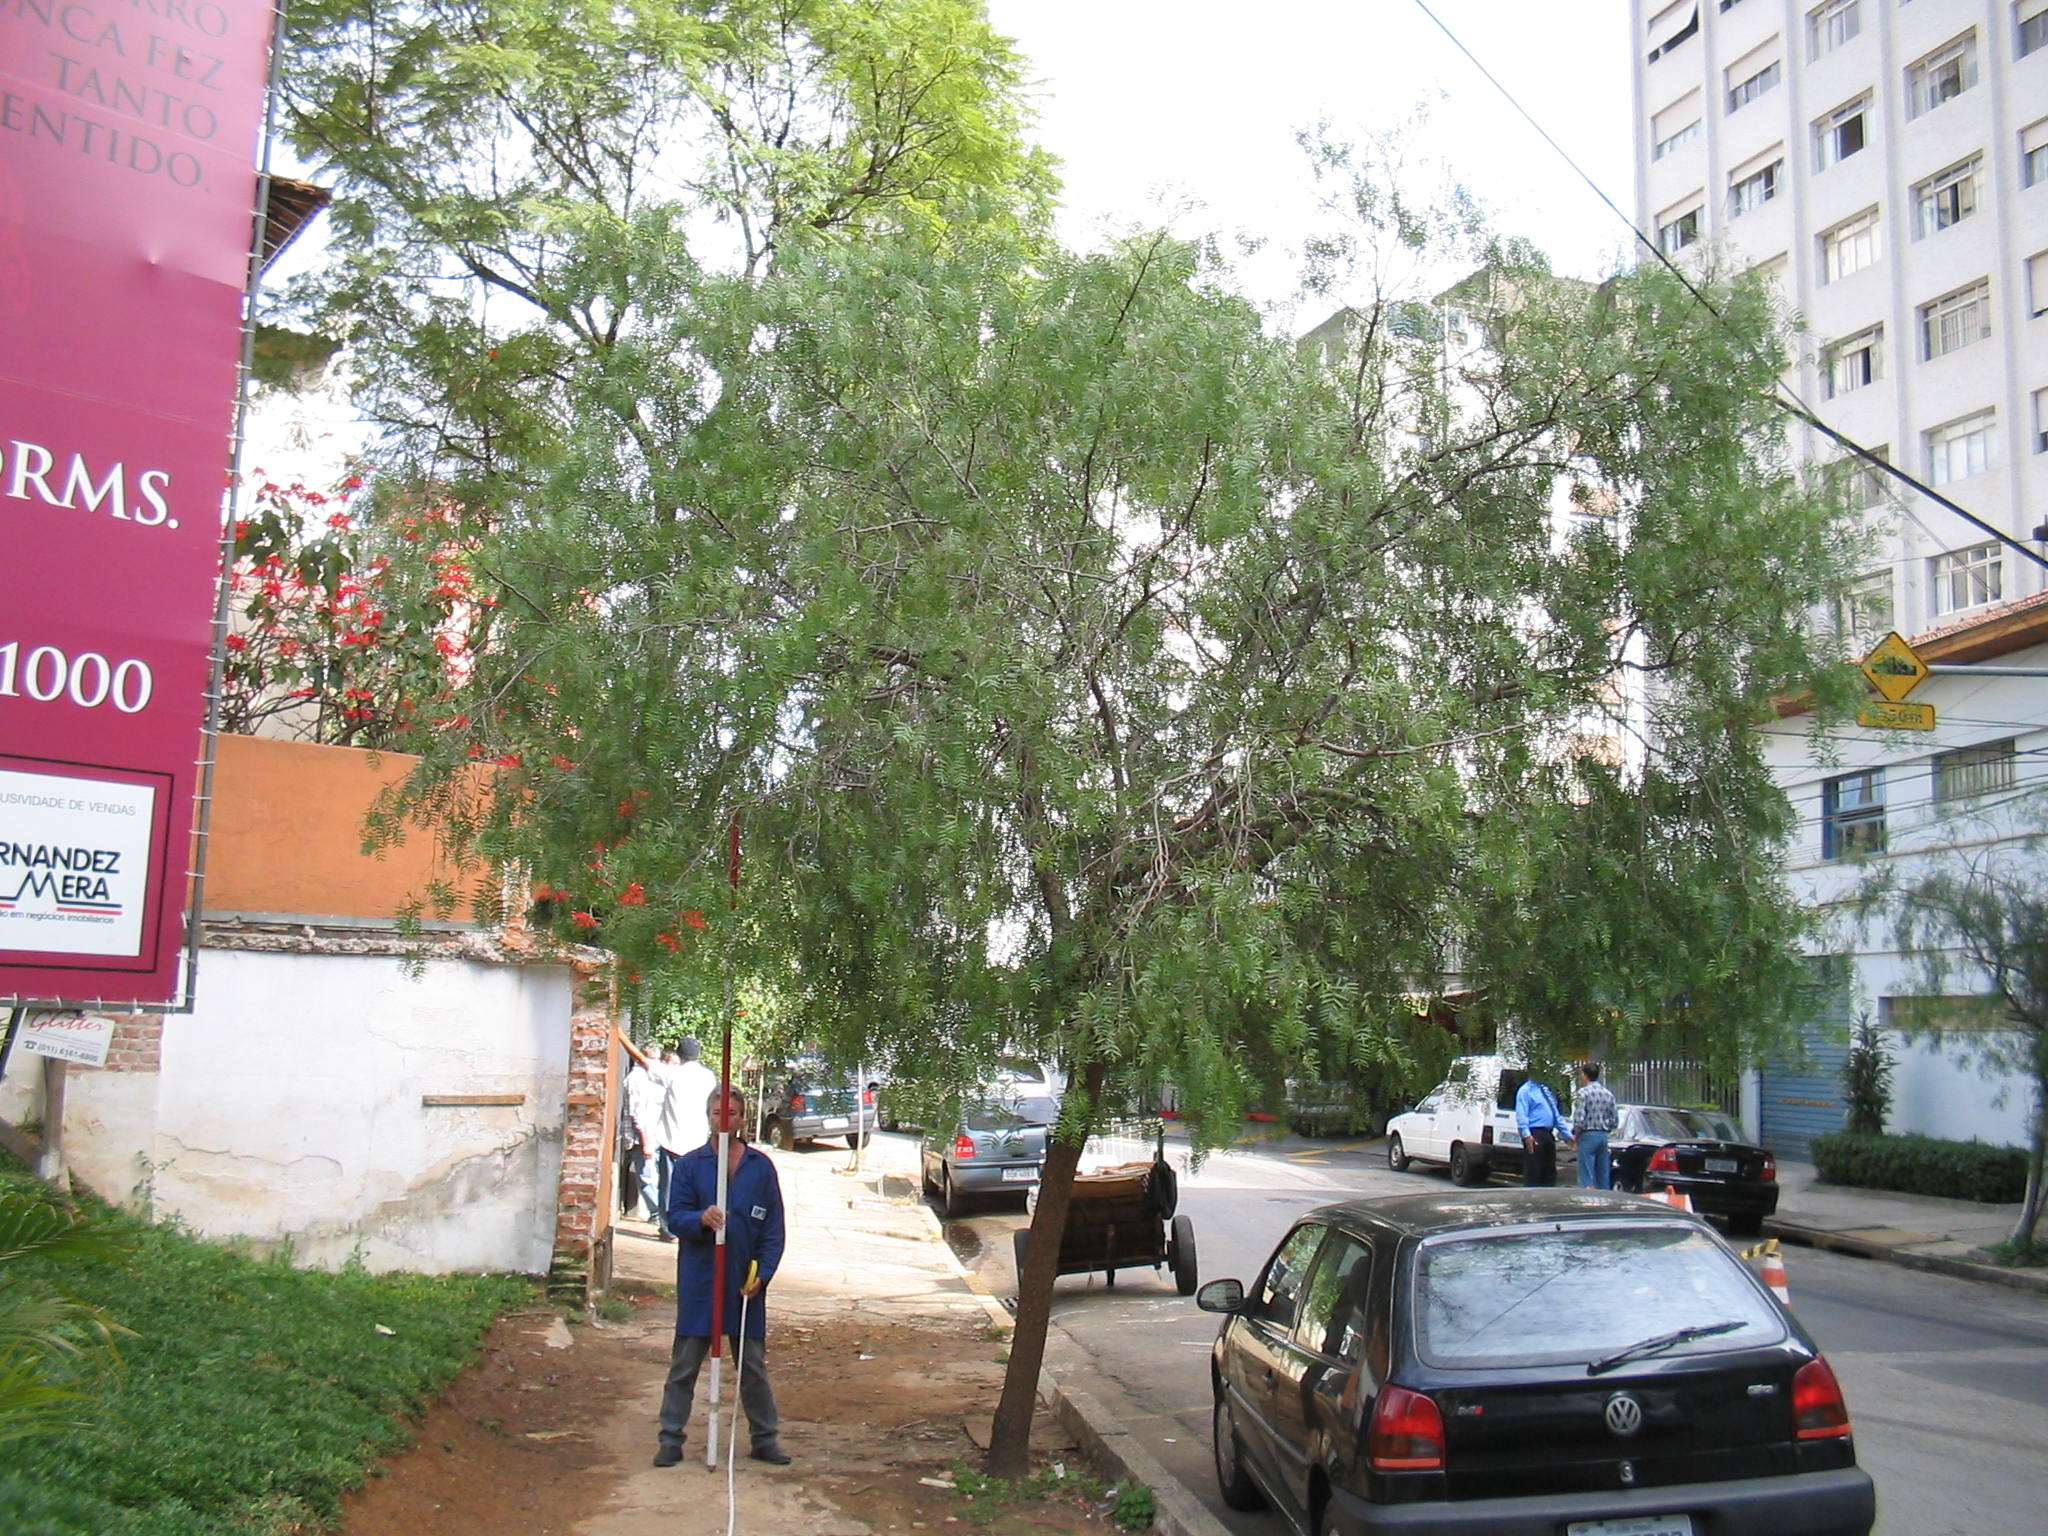crown: (376, 95, 1908, 1126)
stem: (974, 1055, 1121, 1481)
stick: (695, 803, 756, 1473)
tree: (369, 90, 1911, 1475)
